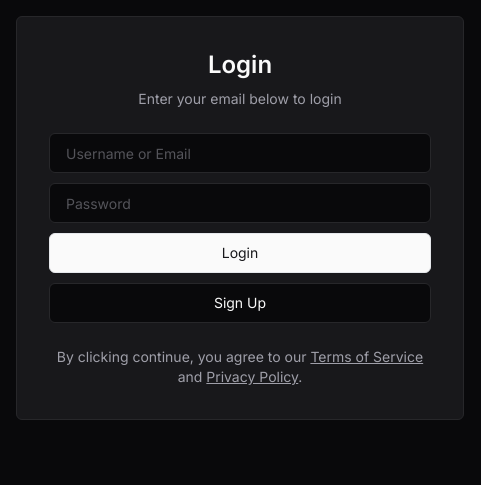
Test: Login Page Tests › should show validation error when form is submitted without data
Click the button "Login" at (240, 253), box 49,233 -> 431,273
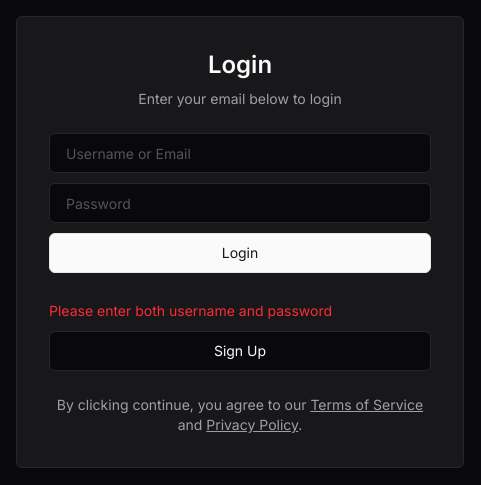
Check: the text "Please enter both username and password" is shown, box 49,302 -> 332,319
